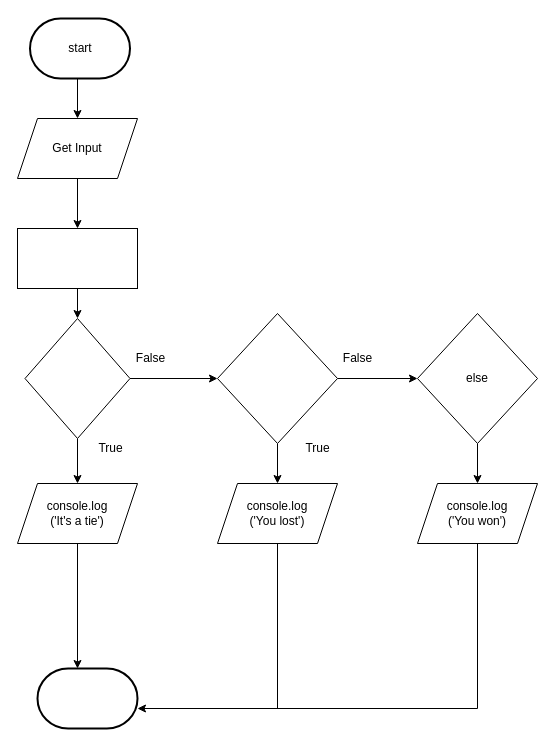
The diagram is 555 pixels wide and 746 high, and some of its shapes have lost their labels. The shapes that lost their labels are listed below. From the top down, each one's centre as x and y in pixels, then its label:
[77,258]: Generate random number
[77,378]: if choice === randomChoice
[277,378]: else if choice === 'rock' && randomchoice === 'paper' ...
